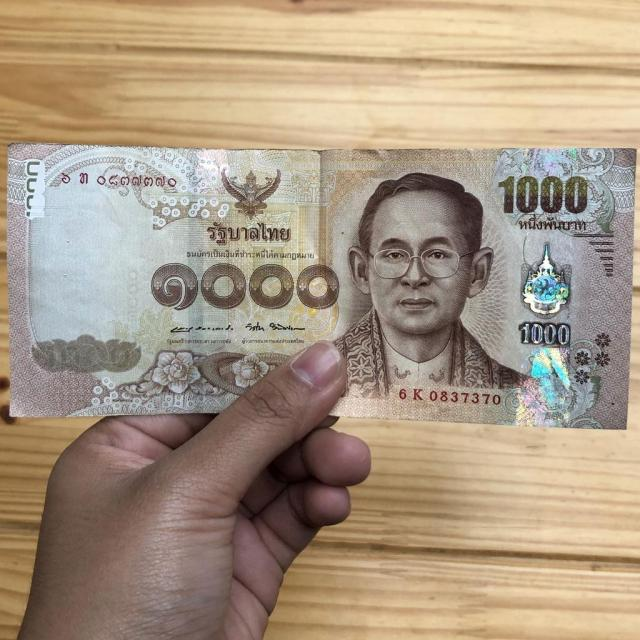THAI1000: (8, 144, 634, 428)
